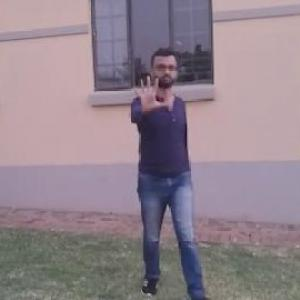follow_hand: (130, 71, 172, 116)
